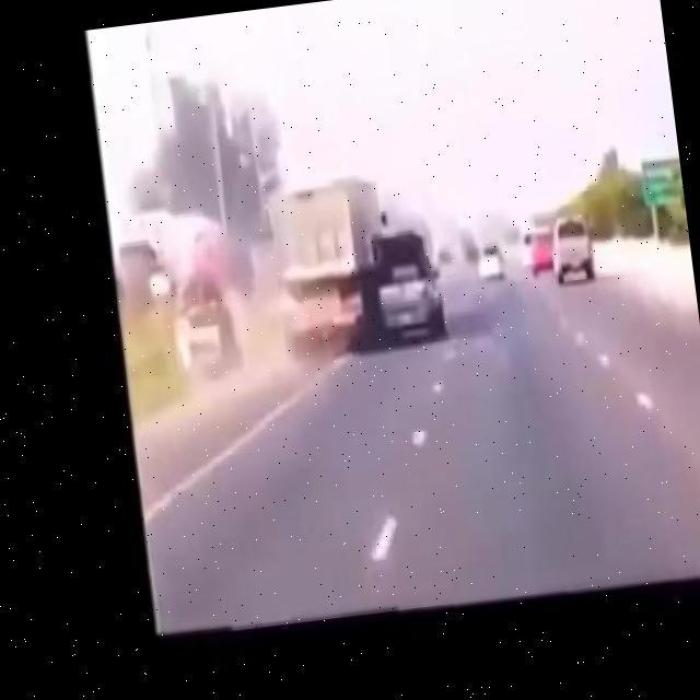Accident: (267, 161, 456, 365)
